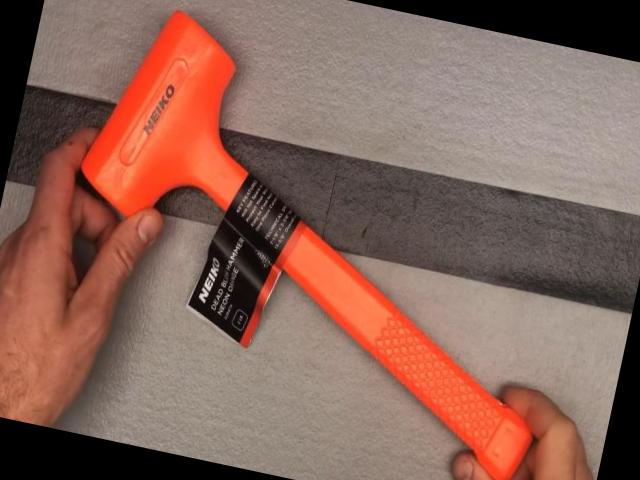hammer: (36, 0, 605, 480)
